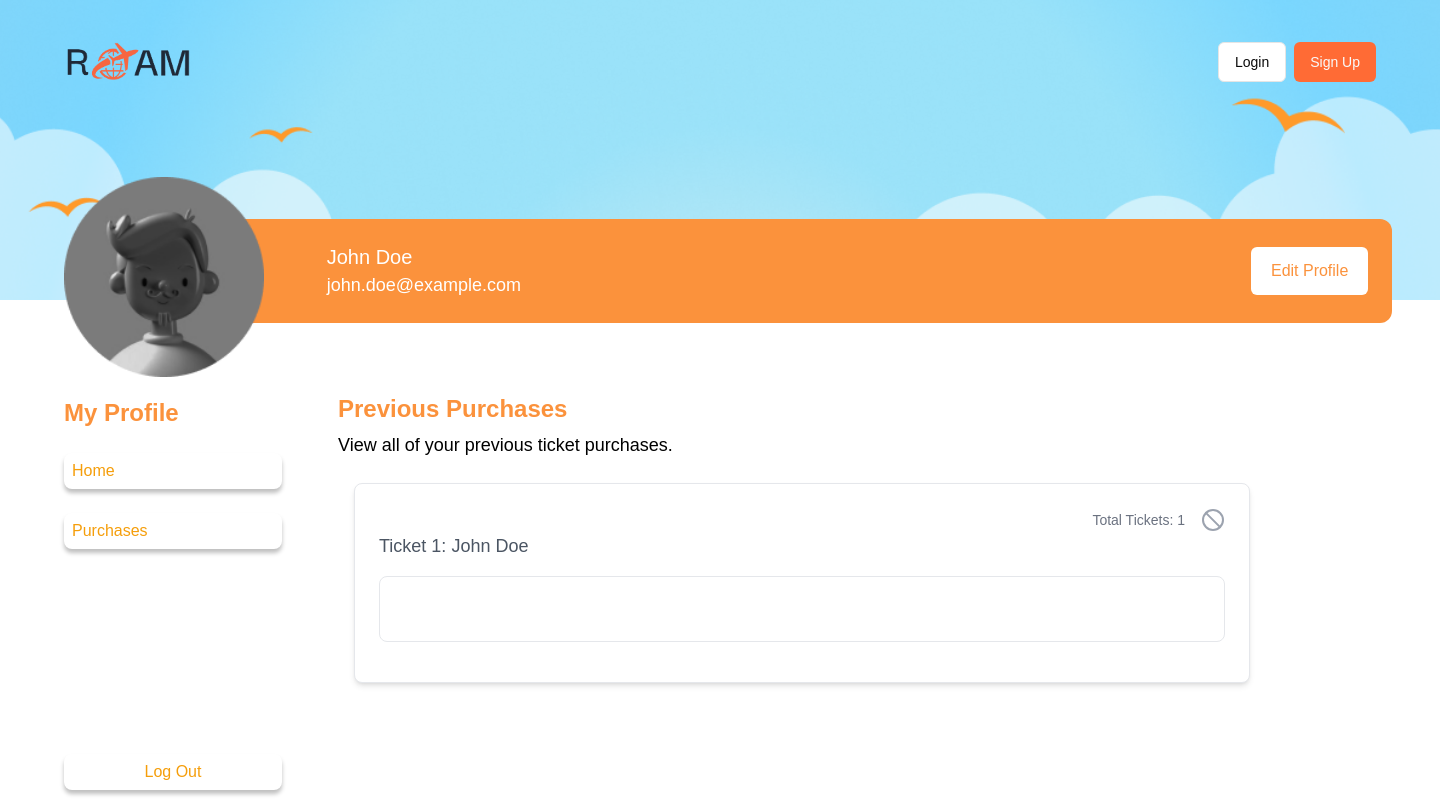
it: ProfilePage Integration Tests › handles trip refund flow
Expected: the heading "John Doe" is shown, [327, 246, 412, 268]
// Click refund trip button
Click the icon with test id "cancel-icon".
click(1213, 520)  # box [1201, 508, 1225, 532]
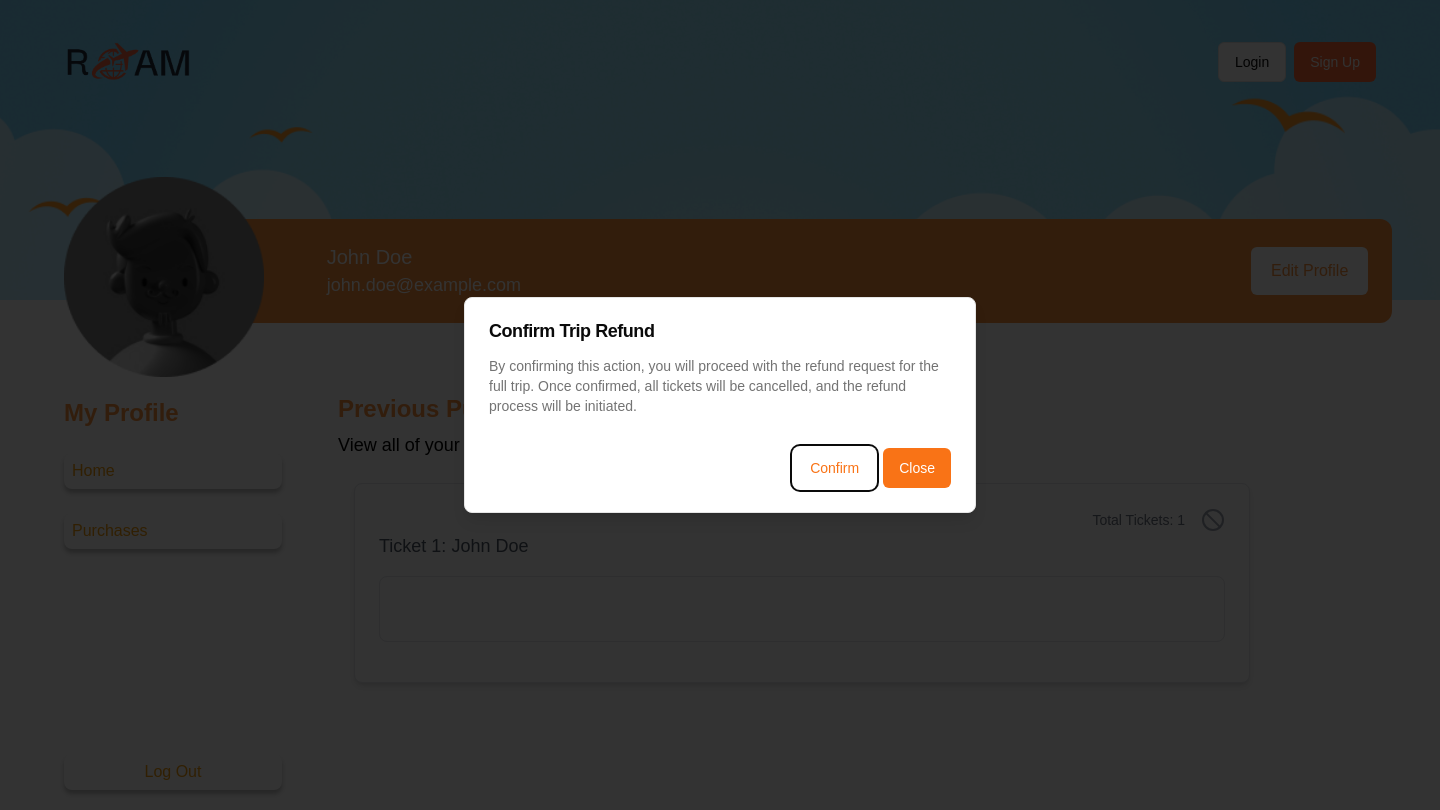
// Confirm refund
Click the button "Confirm".
click(835, 468)  # box [794, 448, 875, 488]
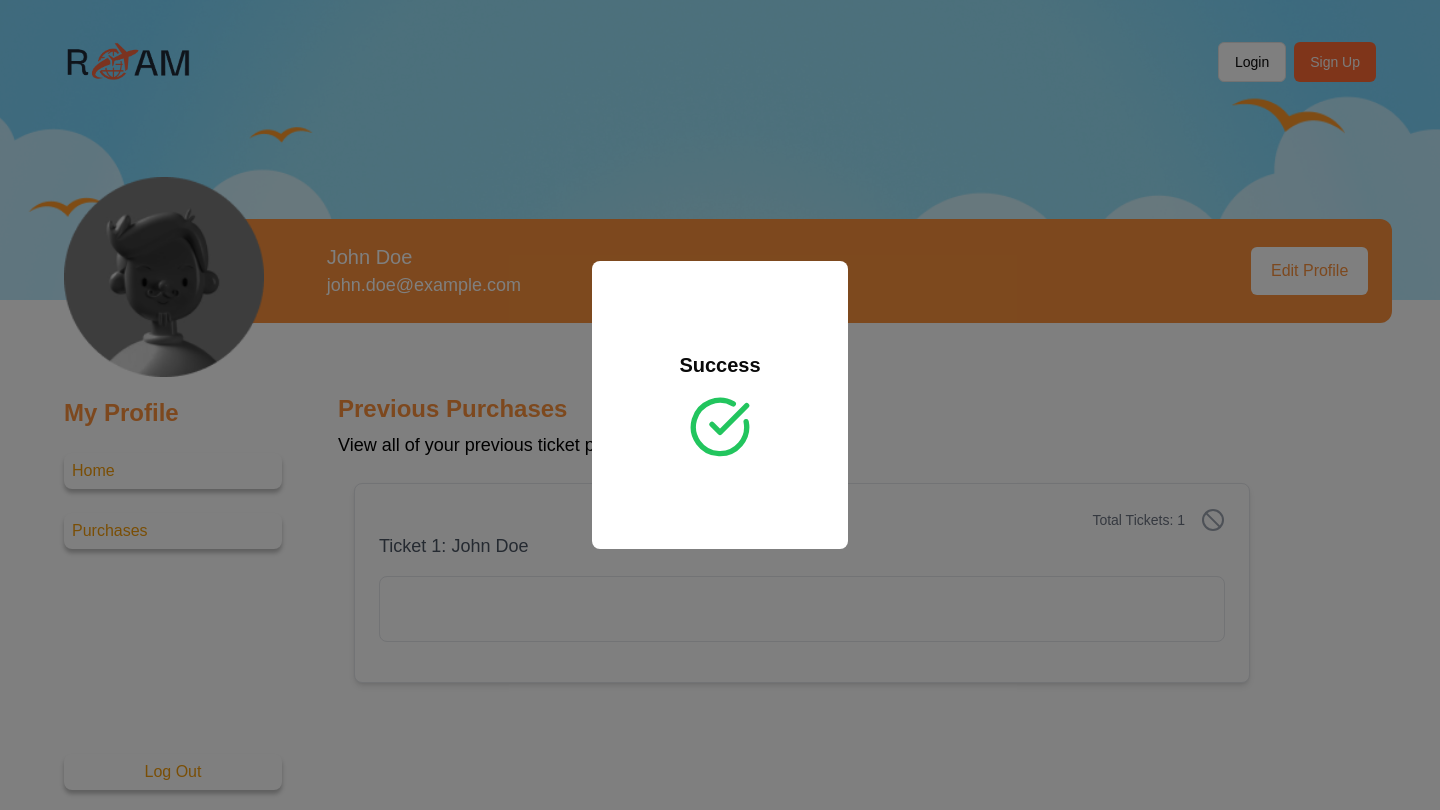
Result: the heading "Success" is shown at [679, 351, 761, 379]
